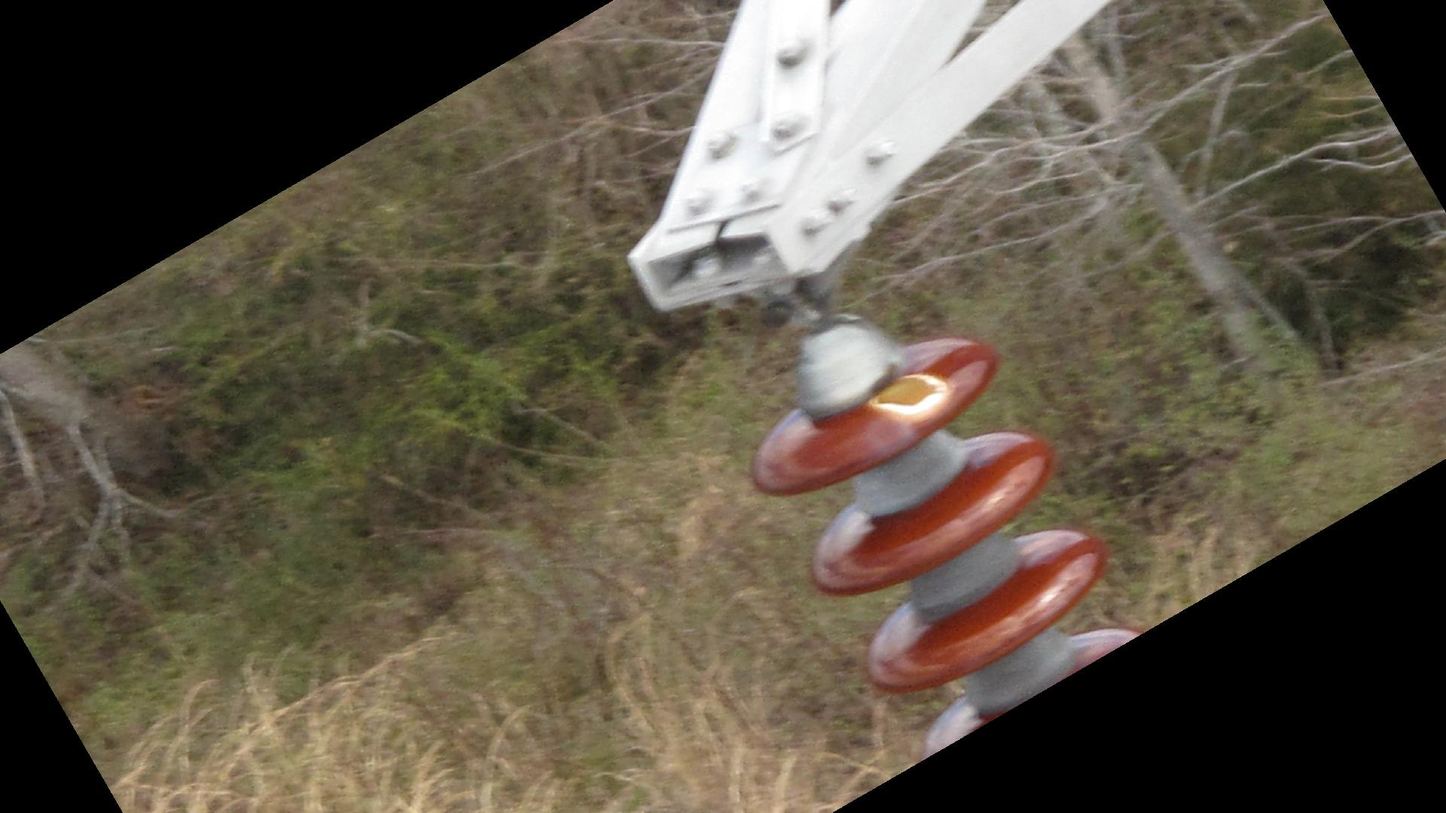insulator: (743, 327, 1154, 766)
insulator_flashover: (868, 370, 950, 416)
